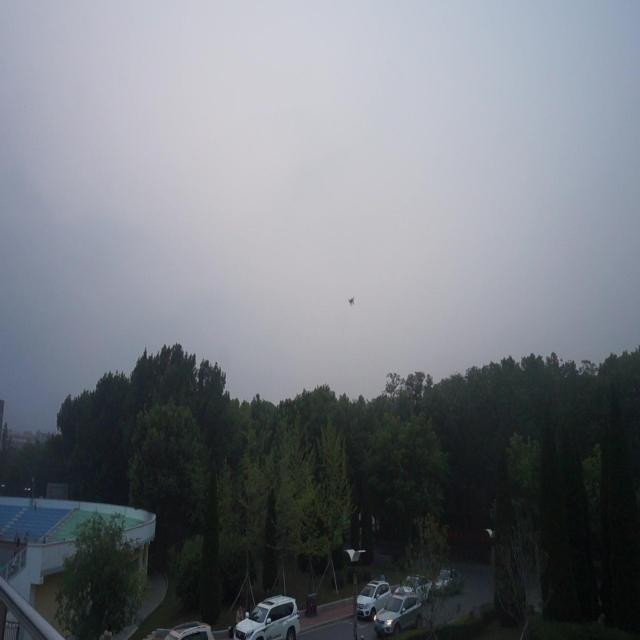drone: (347, 292, 356, 307)
